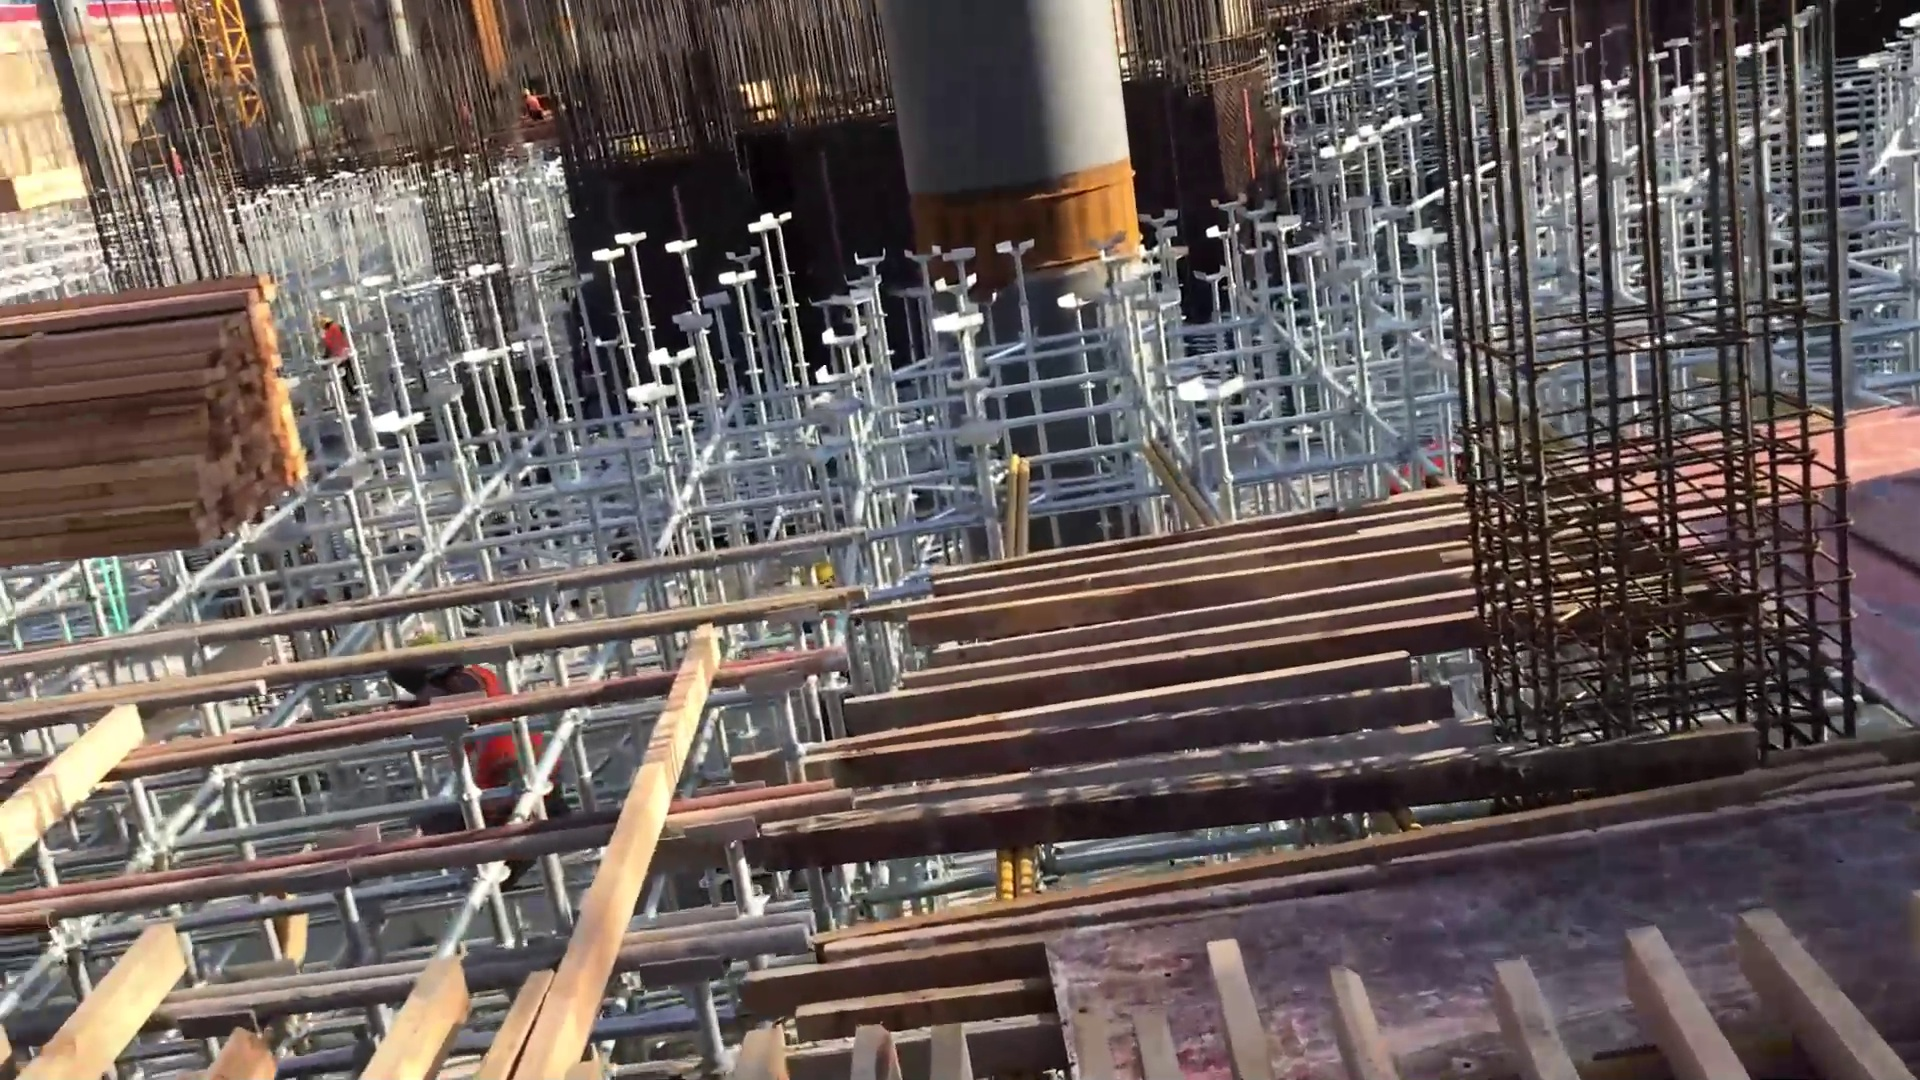vest: (442, 665, 551, 779)
wood: (1, 260, 327, 574)
